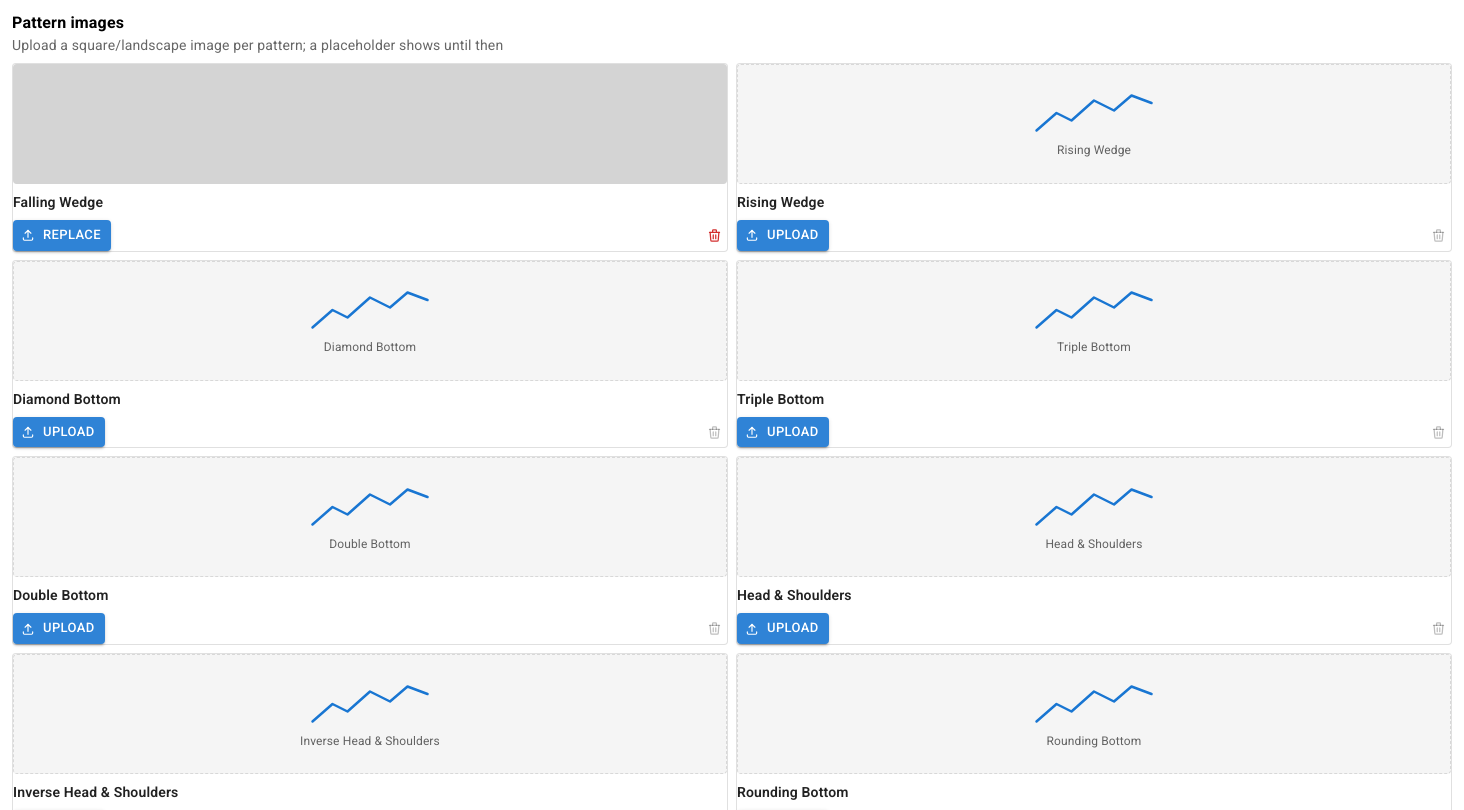
Test: PatternImageManager › shows a per-card error when delete fails and keeps the image
This screenshot has width=1464, height=810.
Click the button with test id "pattern-image-delete-falling_wedge" at (714, 235), box [702,223,727,248]
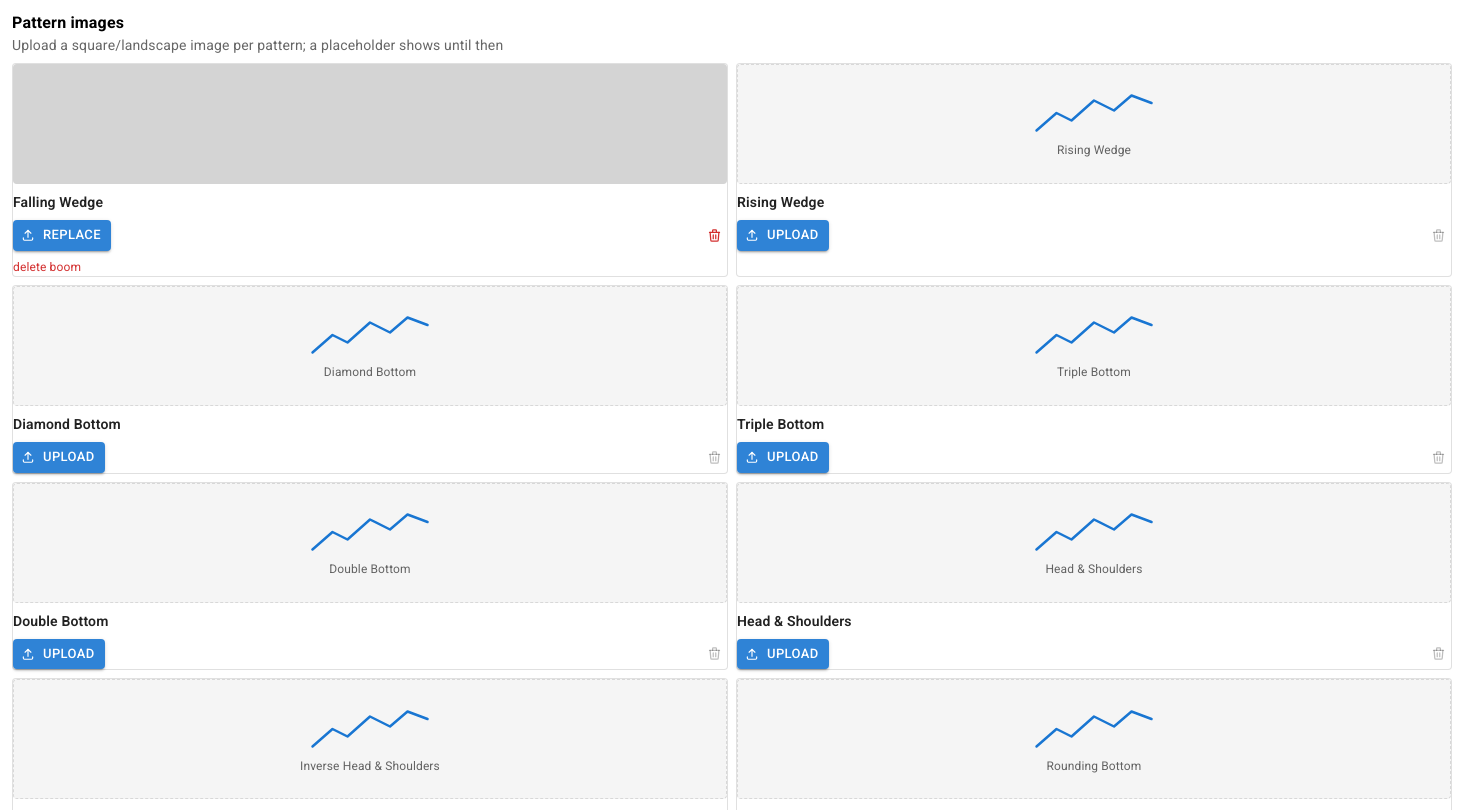
expect the text with test id "pattern-image-error-falling_wedge" reads "delete boom": met, box [13,260,81,274]
